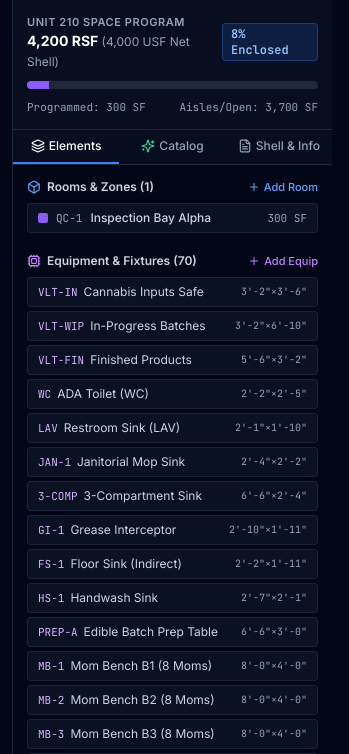
Test: SpaceProgramSidebar component › switches to Shell & Info tab and displays building metadata
Click the button "Shell & Info".
click(279, 147)  # box [226,130,332,164]
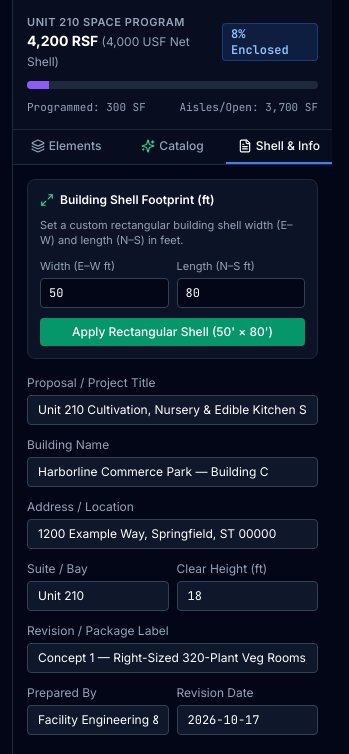
Now the text "Building Shell Footprint (ft)" is shown, box [60,192,215,208]
Now the number field showing "50" below "Width (E–W ft)" is shown, box [40,278,168,308]
Now the number field showing "80" below "Length (N–S ft)" is shown, box [176,278,305,308]
